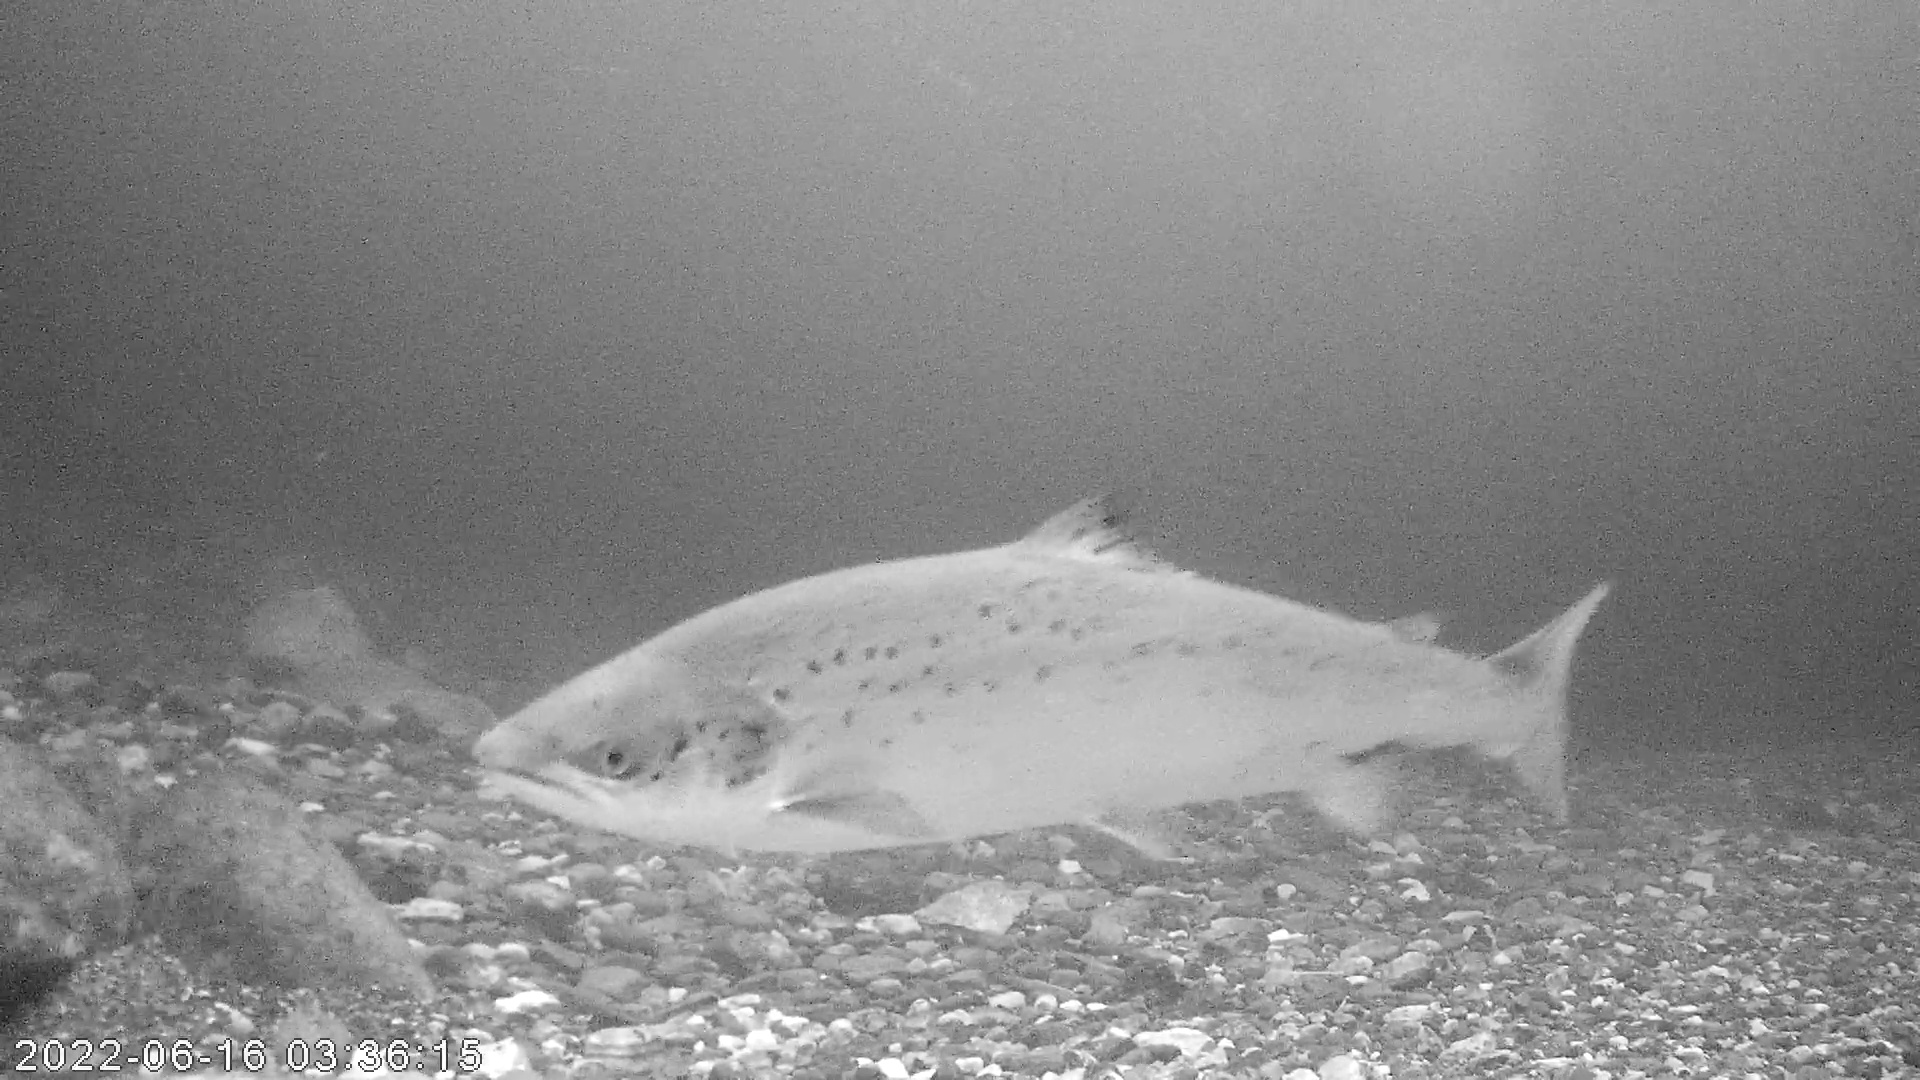salmon: (469, 483, 1618, 858)
